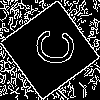C: (25, 25, 76, 68)
